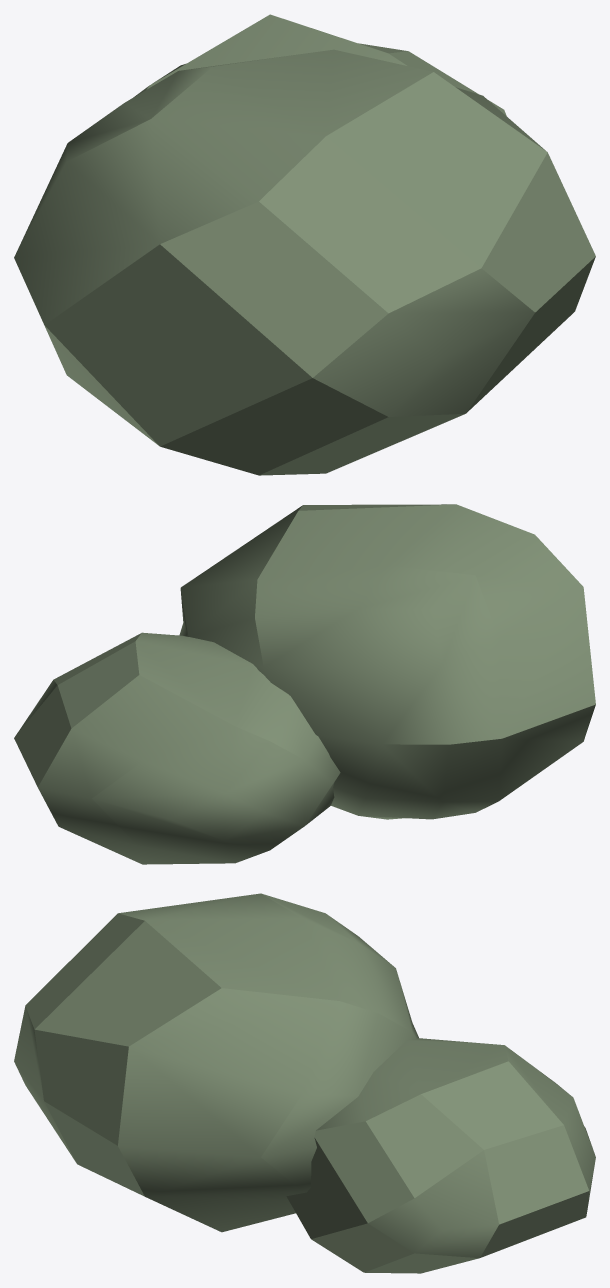
Rendered from FP Bush Lace.fbx.
The picture shows the model from 3 angles, top to bottom: view 1: azimuth 30°, elevation 25°; view 2: azimuth 150°, elevation 25°; view 3: azimuth 270°, elevation 25°; orthographic projection. The views are drawn at different scales.
Visible parts, largest first — view 1: pPlatonic3; view 2: pPlatonic3; view 3: pPlatonic3.
Part boxes in pixels (x1,y1,x2,y2): pPlatonic3: (14,14,595,475); pPlatonic3: (14,504,595,864); pPlatonic3: (14,893,595,1273).
Bounding box in the file's own units: 10.26 × 5.6 × 11.28.
